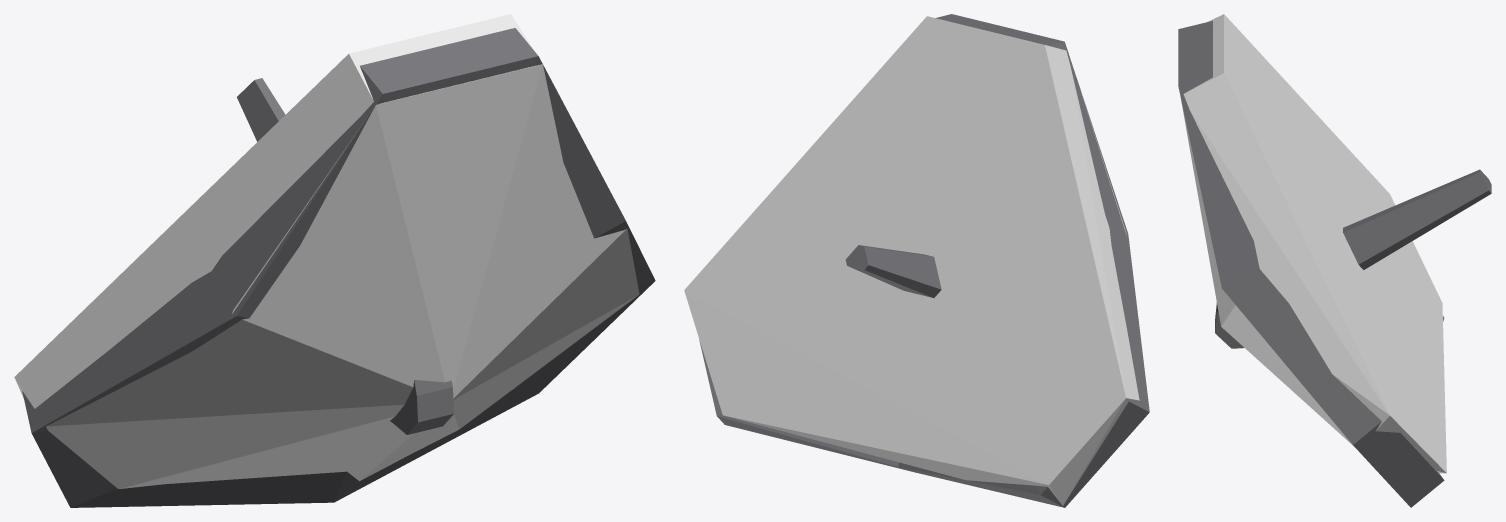
File: SM_Prop_Satellite_02.fbx
The picture shows the model from 3 angles, left to right: view 1: azimuth 30°, elevation 25°; view 2: azimuth 150°, elevation 25°; view 3: azimuth 270°, elevation 25°; orthographic projection. The views are drawn at different scales.
Visible parts, largest first — view 1: SM_Prop_Satellite_02_ConvexHulls, SM_Prop_Satellite_02_LOD0; view 2: SM_Prop_Satellite_02_ConvexHulls, SM_Prop_Satellite_02_LOD0; view 3: SM_Prop_Satellite_02_ConvexHulls, SM_Prop_Satellite_02_LOD0.
Boxes of the visible parts, x1,y1,x2,y2 form: SM_Prop_Satellite_02_ConvexHulls: (14, 14, 639, 488); SM_Prop_Satellite_02_LOD0: (22, 28, 655, 507); SM_Prop_Satellite_02_ConvexHulls: (684, 16, 1139, 505); SM_Prop_Satellite_02_LOD0: (699, 14, 1149, 507); SM_Prop_Satellite_02_ConvexHulls: (1181, 14, 1446, 473); SM_Prop_Satellite_02_LOD0: (1178, 21, 1491, 507).
Bounding box in the file's own units: 102 × 175 × 145.
Materials: 1 (1 with a texture image).
